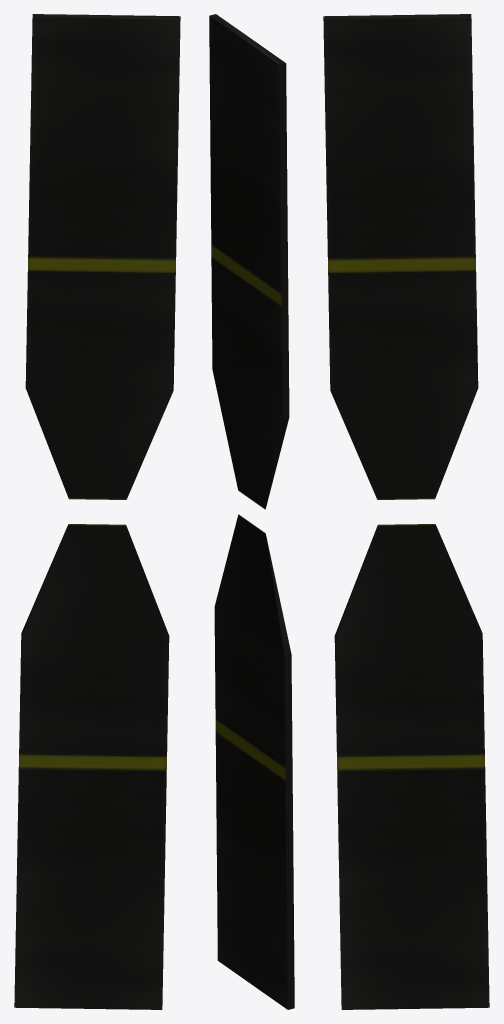
Rendered from gunshiptailblade_wtf.obj.
3 renders of one model, left to right at view 1: azimuth 90°, elevation 25°; view 2: azimuth 210°, elevation 25°; view 3: azimuth 270°, elevation 25°, orthographic. The views are drawn at different scales.
Visible parts, largest first — view 1: group2; view 2: group2; view 3: group2.
Boxes of the visible parts, x1,y1,x2,y2 form: group2: [14, 14, 180, 1009]; group2: [209, 14, 294, 1009]; group2: [323, 14, 489, 1009].
Size of the model in its own units: 5.04 by 660 by 100.
